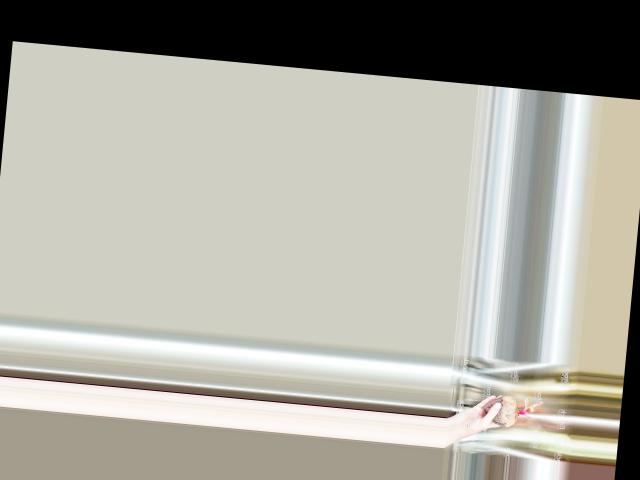beet: (482, 393, 542, 429)
